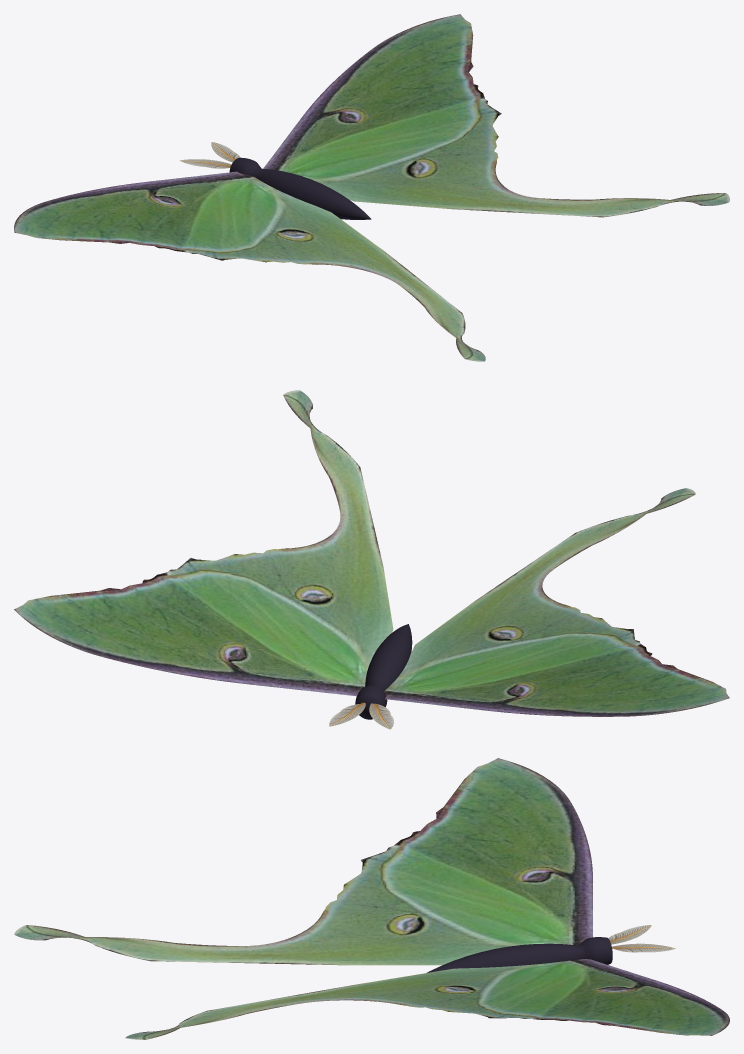
The model's file is Luna Moth.dae.
3 renders of one model, top to bottom at view 1: azimuth 30°, elevation 25°; view 2: azimuth 150°, elevation 25°; view 3: azimuth 270°, elevation 25°, orthographic. The views are drawn at different scales.
Parts seen in each view (by area): view 1: Component_1 (×2), Component_2; view 2: Component_1 (×2), Component_2; view 3: Component_1 (×2), Component_2.
Part boxes in pixels (x1,y1,x2,y2): Component_1 (×2): [14, 14, 729, 361]; Component_2: [229, 157, 371, 219]; Component_1 (×2): [14, 390, 729, 716]; Component_2: [355, 624, 412, 719]; Component_1 (×2): [14, 758, 729, 1039]; Component_2: [427, 937, 612, 972].
Bounding box in the file's own units: 38.3 × 38.19 × 4.81.
